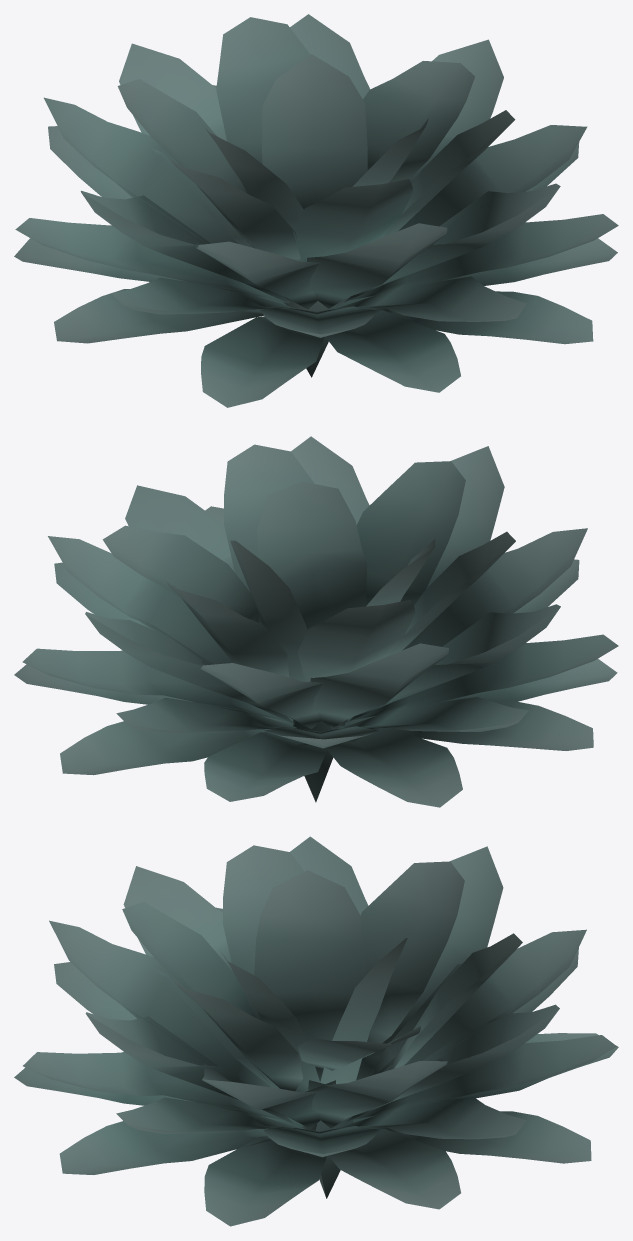
Rendered from plants-cacti-succulents-blue-echeveria_v2.fbx.
3 renders of one model, top to bottom at view 1: azimuth 30°, elevation 25°; view 2: azimuth 150°, elevation 25°; view 3: azimuth 270°, elevation 25°, orthographic.
Visible parts, largest first — view 1: Blue Echeveria_v2; view 2: Blue Echeveria_v2; view 3: Blue Echeveria_v2.
Part boxes in pixels (x1,y1,x2,y2): Blue Echeveria_v2: (14,14,618,407); Blue Echeveria_v2: (14,436,618,807); Blue Echeveria_v2: (14,836,618,1226).
Size of the model in its own units: 0.2 by 0.1019 by 0.1988.
